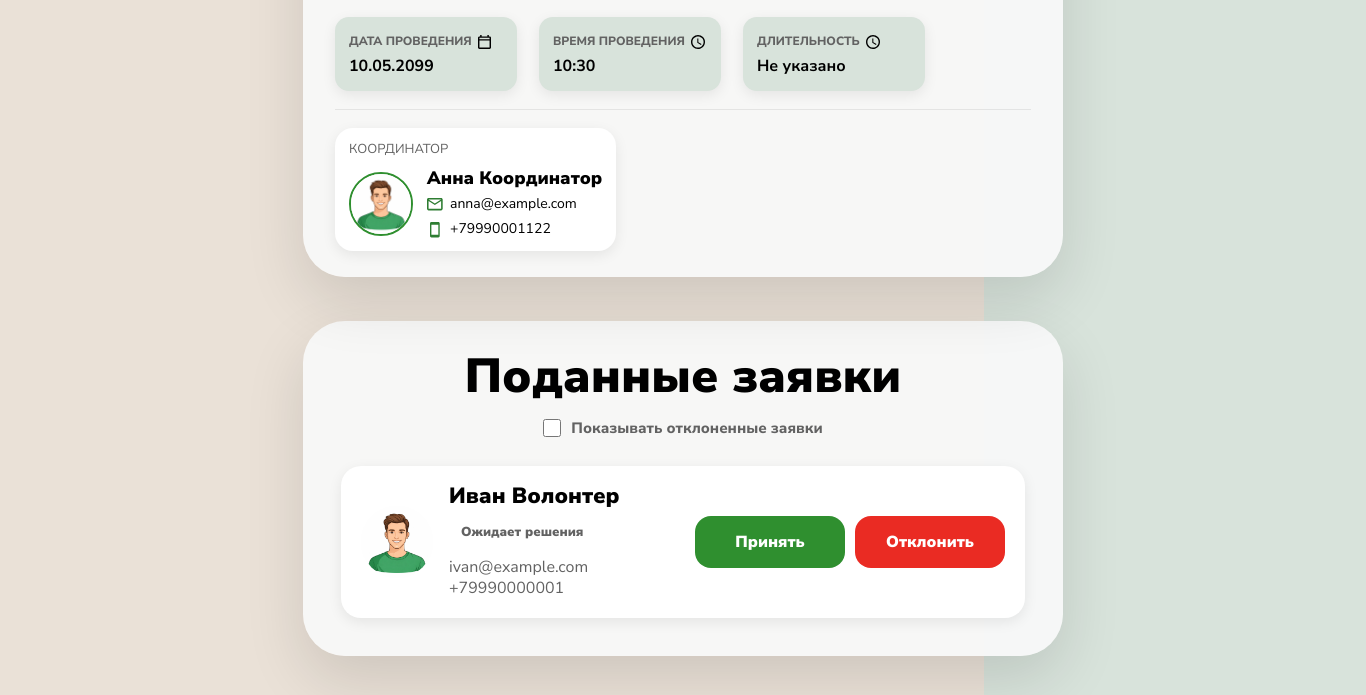
Test: EventOpenPage › shows fallback error when reject request fails without message
(page scrolled)
Click the button with aria-label "отклонить заявку" at (930, 542), box x1=855 y1=516 x2=1005 y2=568
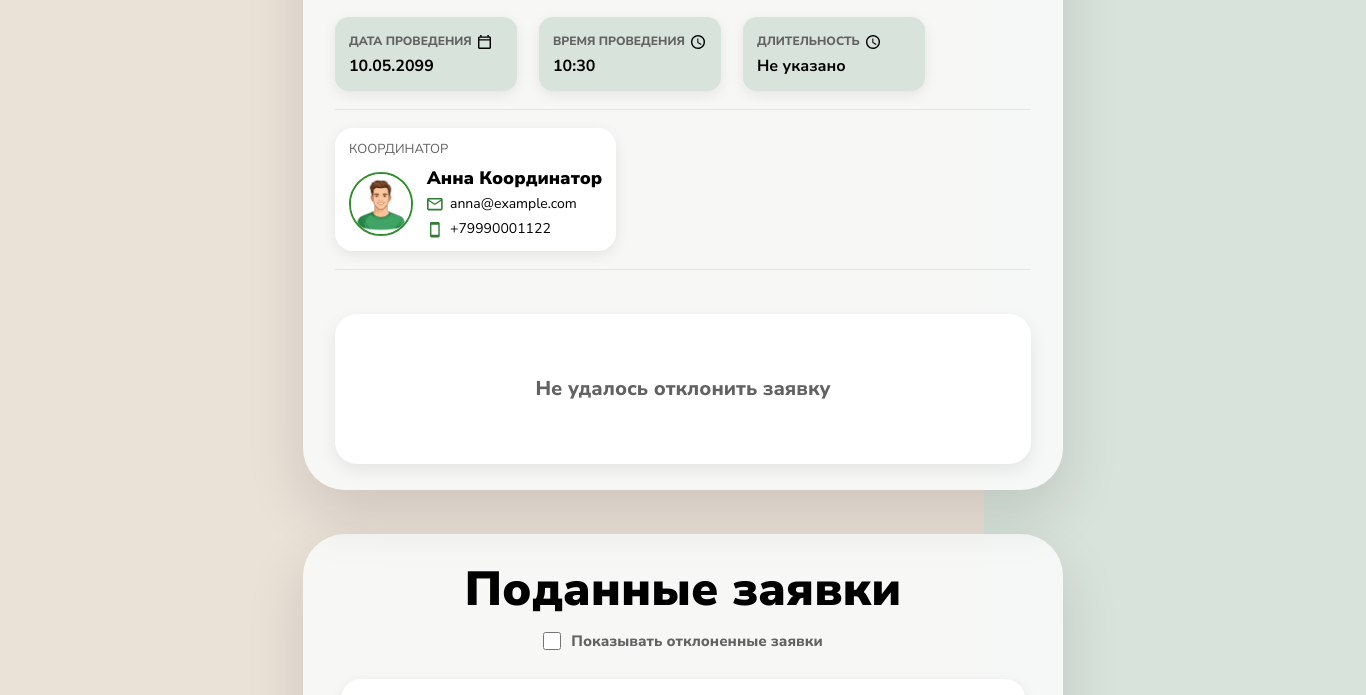
Check: the text "Не удалось отклонить заявку" is shown, box x1=335 y1=314 x2=1031 y2=464
